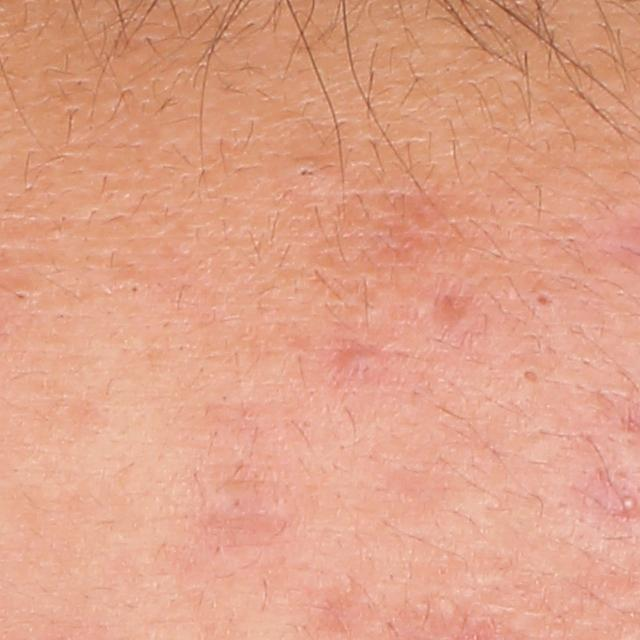comedo: (289, 160, 319, 183), (10, 286, 32, 306), (127, 282, 142, 296)
papule: (328, 343, 395, 387)
